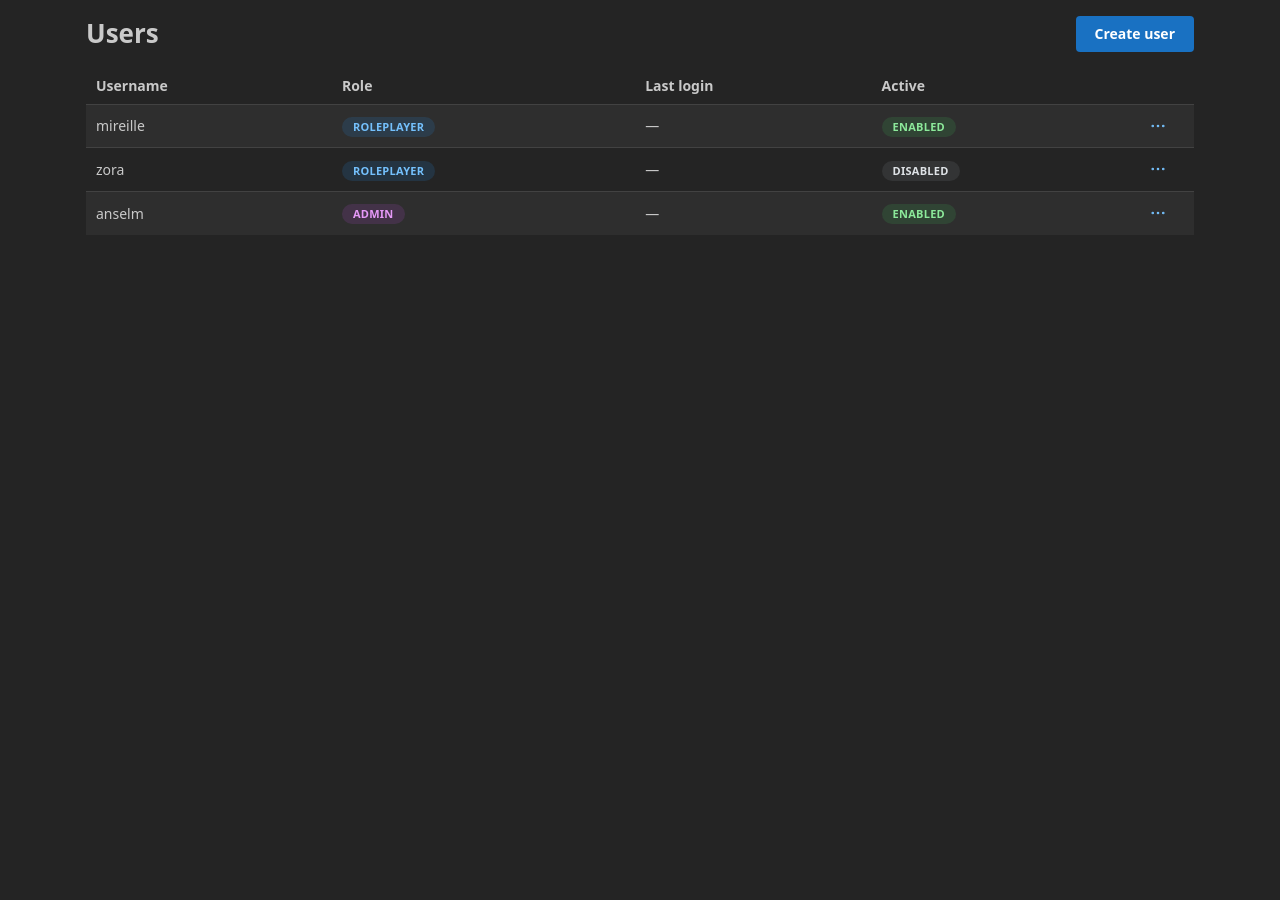
Test: Set Password on the Users page › choosing Set Password opens the modal and issues no request — DoD-3
The width and height of the screenshot is (1280, 900).
Click the submit button at (1158, 126), box [1144,112,1172,140]
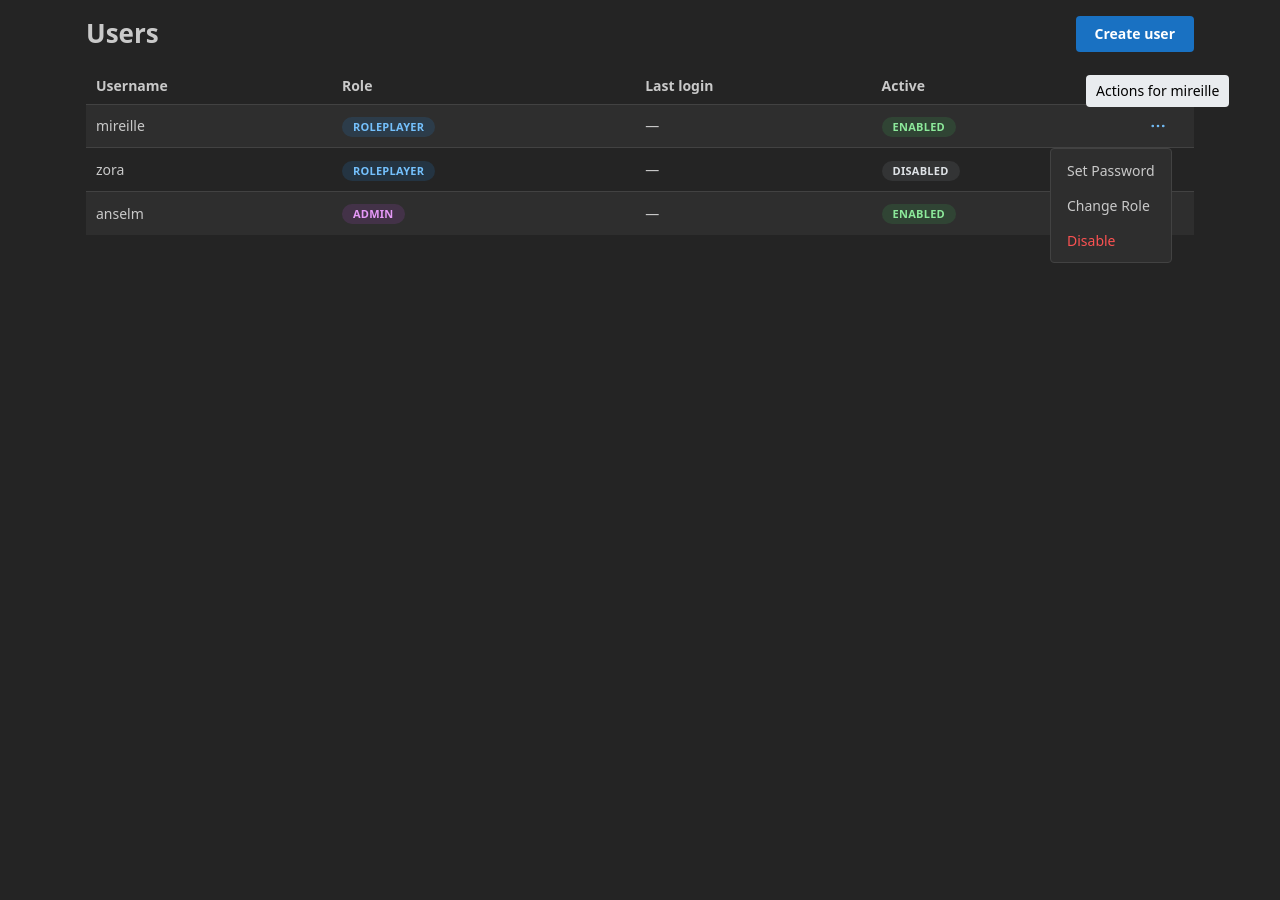
Click the menu item "Set Password" at (1111, 171), box [1055,153,1167,188]
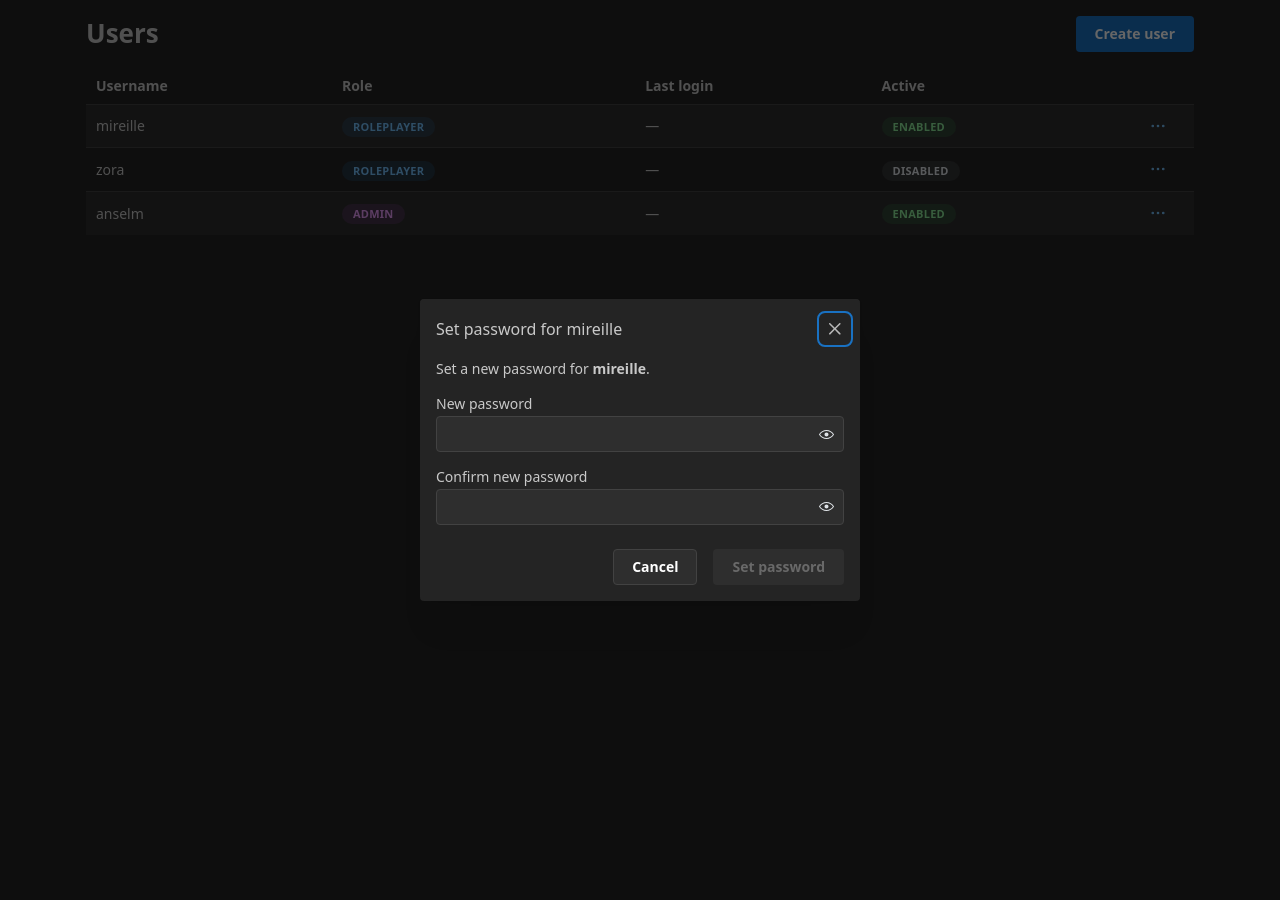
Check: the password field labelled "New password" is shown, box [437,417,843,451]
